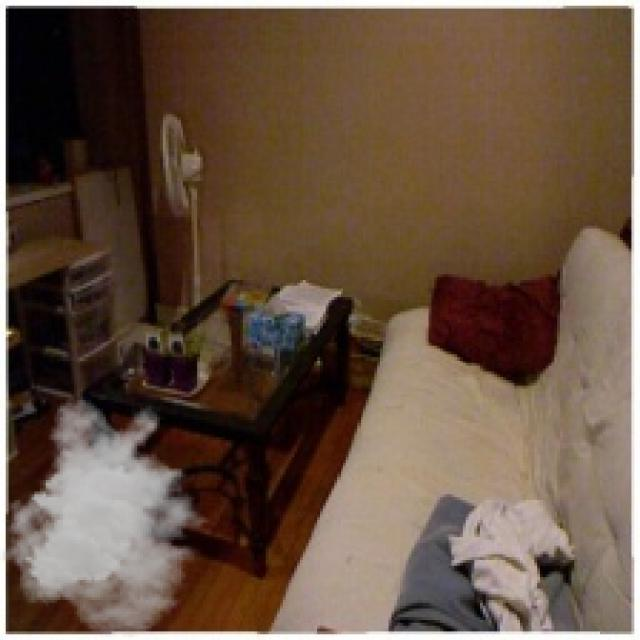Smoke: (0, 397, 220, 637)
